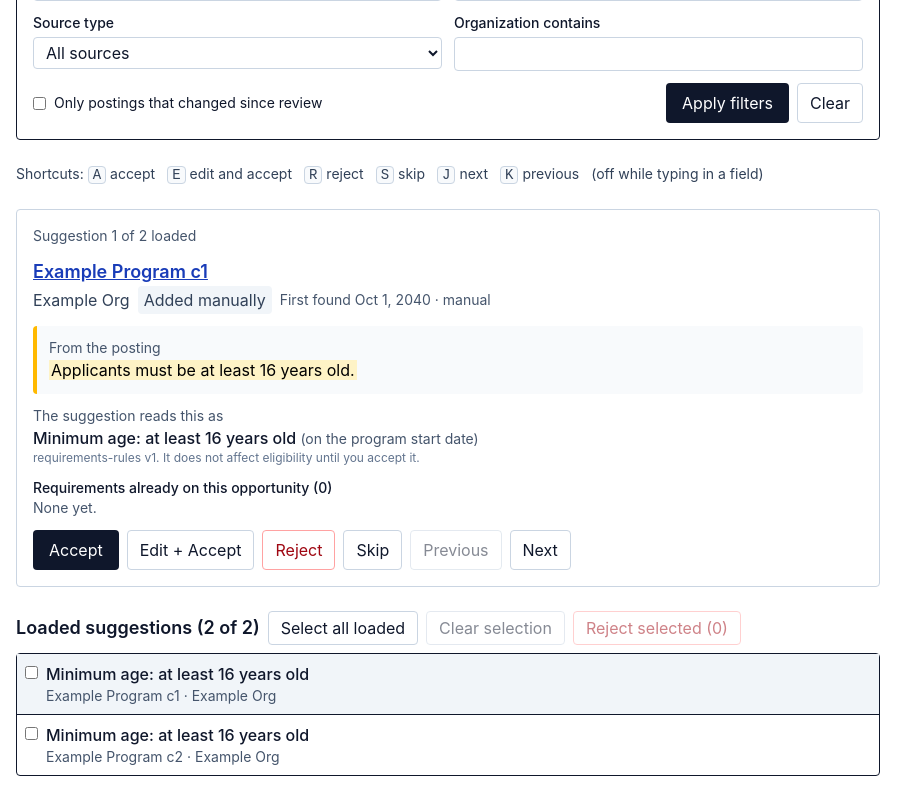
Test: requirement review queue page › accepts through the existing review endpoint, then reloads the queue
(page scrolled)
Click the button "Accept".
click(76, 550)  # box [33,530,119,570]
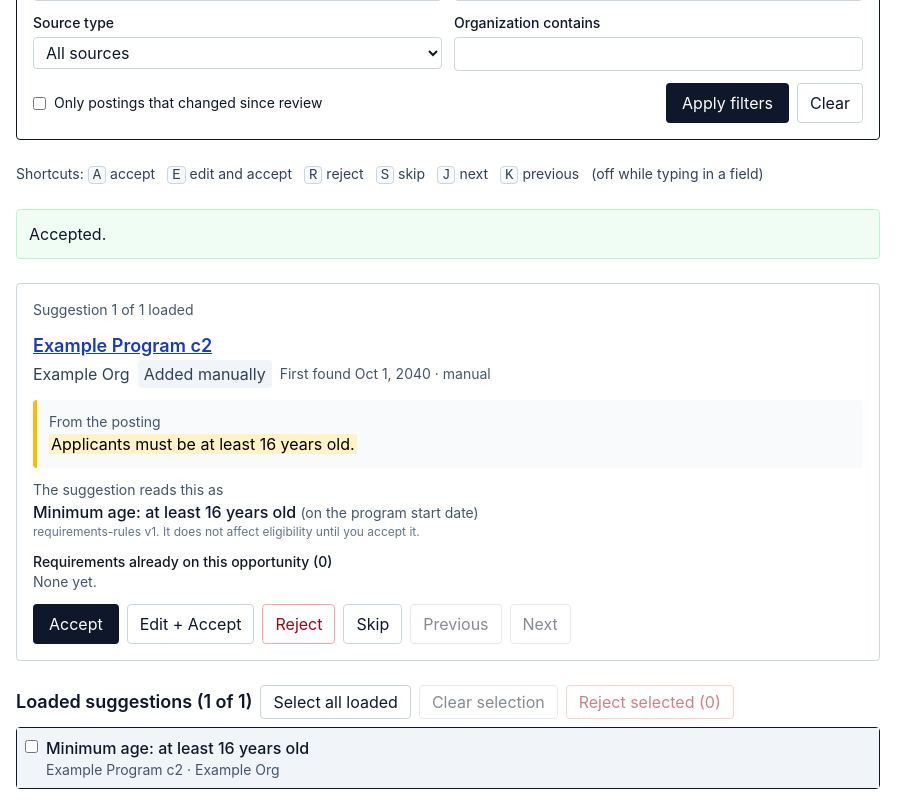
Now the text "Accepted." is shown, box [16,209,880,259]
Now the link "Example Program c2" is shown, box [33,335,212,356]
